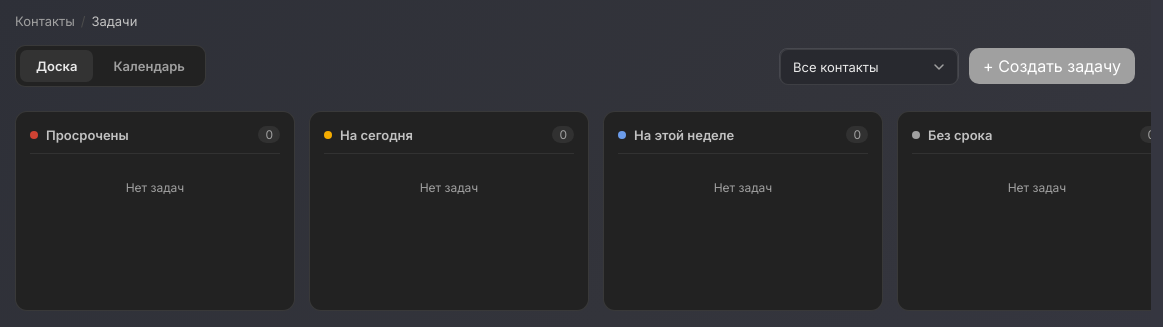
Scenario: TasksPage › contact filter › shows contact filter select
The image size is (1163, 327).
What coordinates should you click on to do the following:
click the button "Все контакты"
I would click on:
 (869, 67)
Its box is [780,49,958,85].
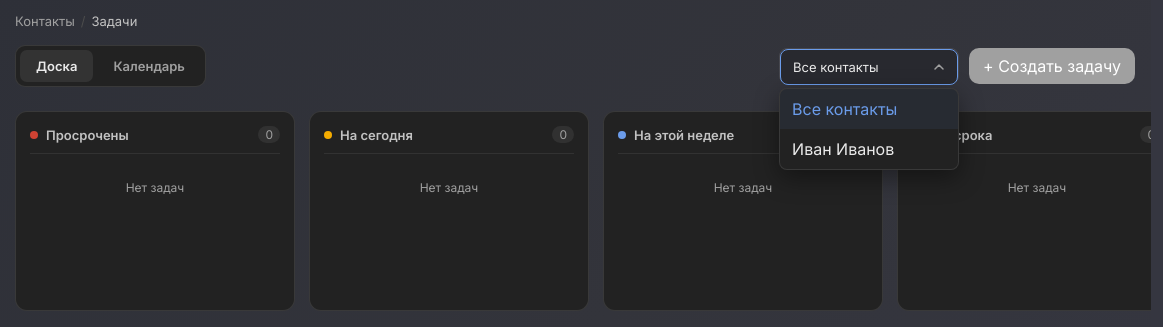
expect the text "Иван Иванов" is shown: met, box [792,139,894,159]
